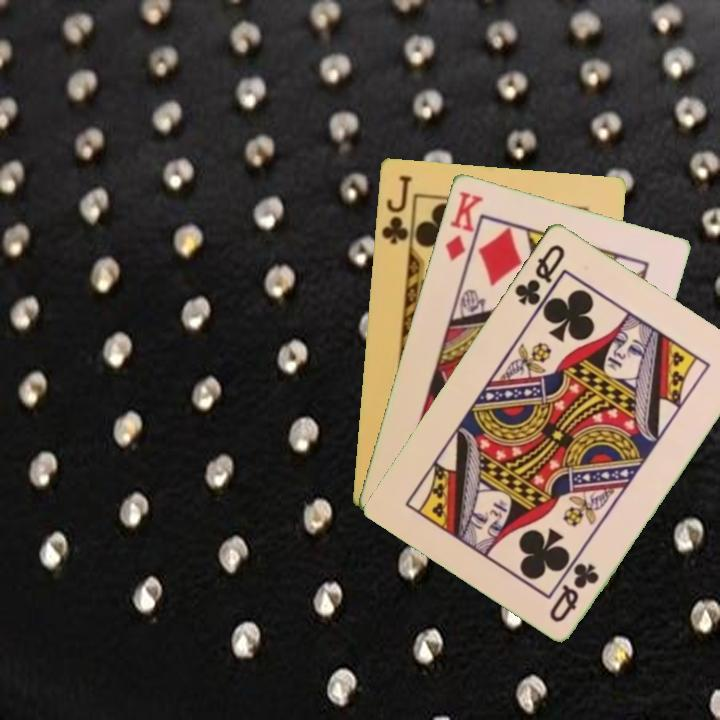Jc: (377, 171, 415, 247)
Kd: (441, 187, 486, 264)
Qc: (510, 240, 568, 308), (545, 558, 602, 625)
